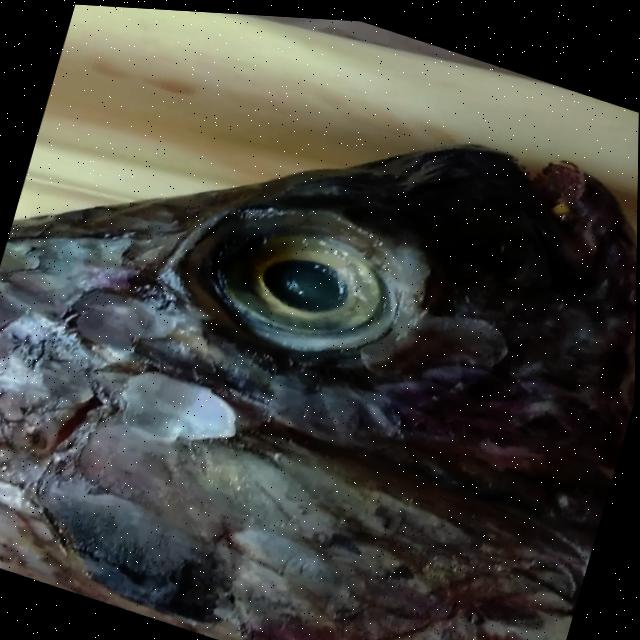Non-Fresh: (153, 154, 457, 408)
